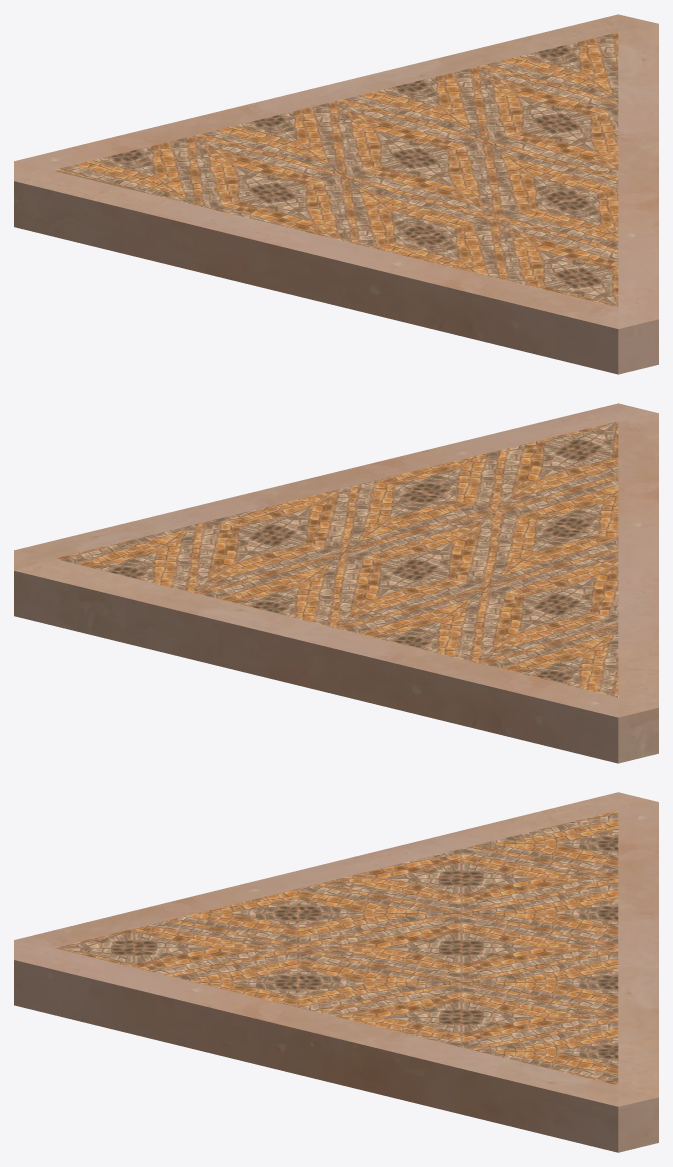
3 views of the same model, one above another, from view 1: azimuth 30°, elevation 25°; view 2: azimuth 150°, elevation 25°; view 3: azimuth 270°, elevation 25° (orthographic).
Visible parts, largest first — view 1: SM_BB_T4_Floor_Triangle_Large_02_LOD0; view 2: SM_BB_T4_Floor_Triangle_Large_02_LOD0; view 3: SM_BB_T4_Floor_Triangle_Large_02_LOD0.
Boxes of the visible parts, x1,y1,x2,y2 form: SM_BB_T4_Floor_Triangle_Large_02_LOD0: [14, 14, 658, 374]; SM_BB_T4_Floor_Triangle_Large_02_LOD0: [14, 403, 658, 763]; SM_BB_T4_Floor_Triangle_Large_02_LOD0: [14, 792, 658, 1152].
Size of the model in its own units: 3.43 by 0.2414 by 2.97.
Materials: 2 (2 with a texture image).
